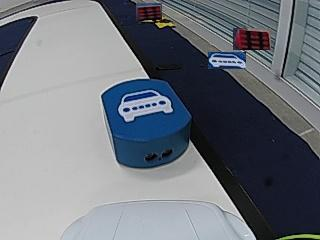safety: (117, 89, 174, 121)
